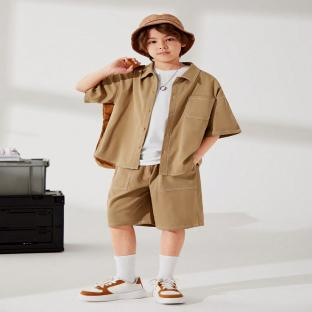Human: (75, 14, 241, 303)
